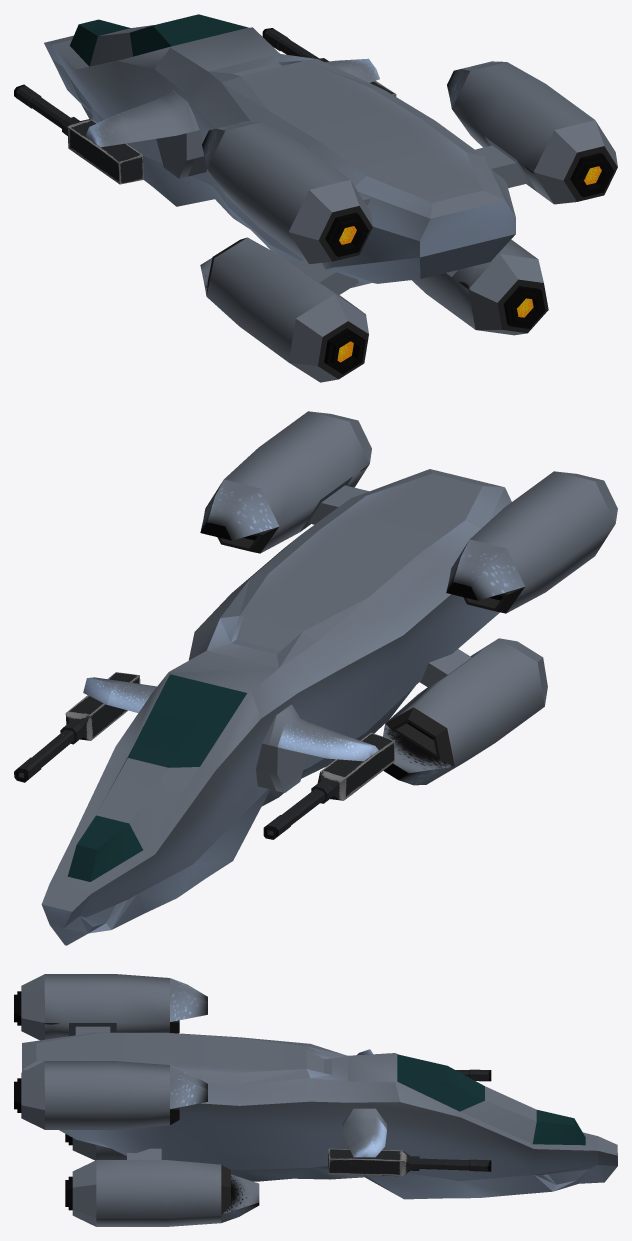
The model's file is Gunship.fbx.
The picture shows the model from 3 angles, top to bottom: view 1: azimuth 30°, elevation 25°; view 2: azimuth 150°, elevation 25°; view 3: azimuth 270°, elevation 25°; orthographic projection. The views are drawn at different scales.
Visible parts, largest first — view 1: Hull, Engine008, Engine007, Engine009, Engine005, Cylinder001, LTurret002, LTurret003, Cylinder002; view 2: Hull, Engine008, Engine009, Engine007, Cylinder001, LTurret002, LTurret003, Cylinder002; view 3: Hull, Engine005, Engine008, Engine007, LTurret003, Cylinder002, Engine009.
Part boxes in pixels (left/top/right/bottom): Hull: left=44, top=14, right=515, bottom=287; Engine008: left=447, top=61, right=617, bottom=204; Engine007: left=202, top=121, right=372, bottom=264; Engine009: left=200, top=237, right=368, bottom=382; Engine005: left=411, top=239, right=548, bottom=335; Cylinder001: left=85, top=90, right=206, bottom=178; LTurret002: left=14, top=84, right=143, bottom=184; LTurret003: left=262, top=28, right=396, bottom=96; Cylinder002: left=325, top=58, right=379, bottom=82; Hull: left=41, top=469, right=511, bottom=945; Engine008: left=200, top=411, right=371, bottom=553; Engine009: left=383, top=638, right=547, bottom=785; Engine007: left=446, top=471, right=617, bottom=613; Cylinder001: left=256, top=704, right=378, bottom=792; LTurret002: left=263, top=732, right=394, bottom=839; LTurret003: left=14, top=672, right=140, bottom=782; Cylinder002: left=83, top=677, right=156, bottom=712; Hull: left=22, top=1032, right=617, bottom=1199; Engine005: left=65, top=1148, right=259, bottom=1226; Engine008: left=14, top=1061, right=207, bottom=1129; Engine007: left=14, top=974, right=207, bottom=1040; LTurret003: left=328, top=1148, right=491, bottom=1176; Cylinder002: left=342, top=1108, right=386, bottom=1157; Engine009: left=65, top=1134, right=126, bottom=1160.
Bounding box in the file's own units: 37.58 × 25.24 × 82.5.
7 materials, 7 textured.
